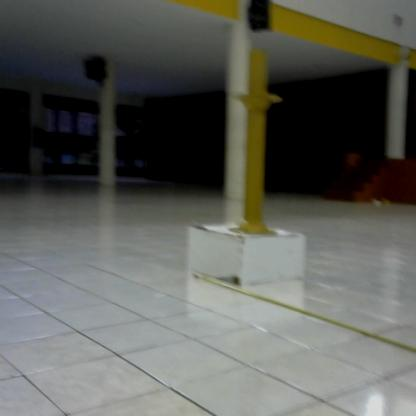pole: (223, 48, 294, 244)
